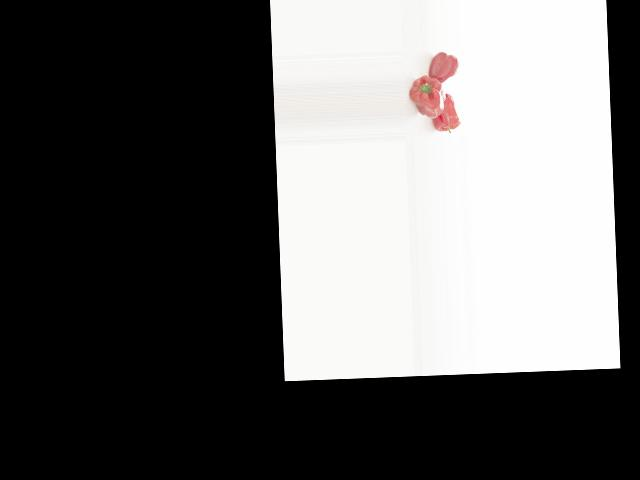bell_pepper: (426, 49, 459, 81)
